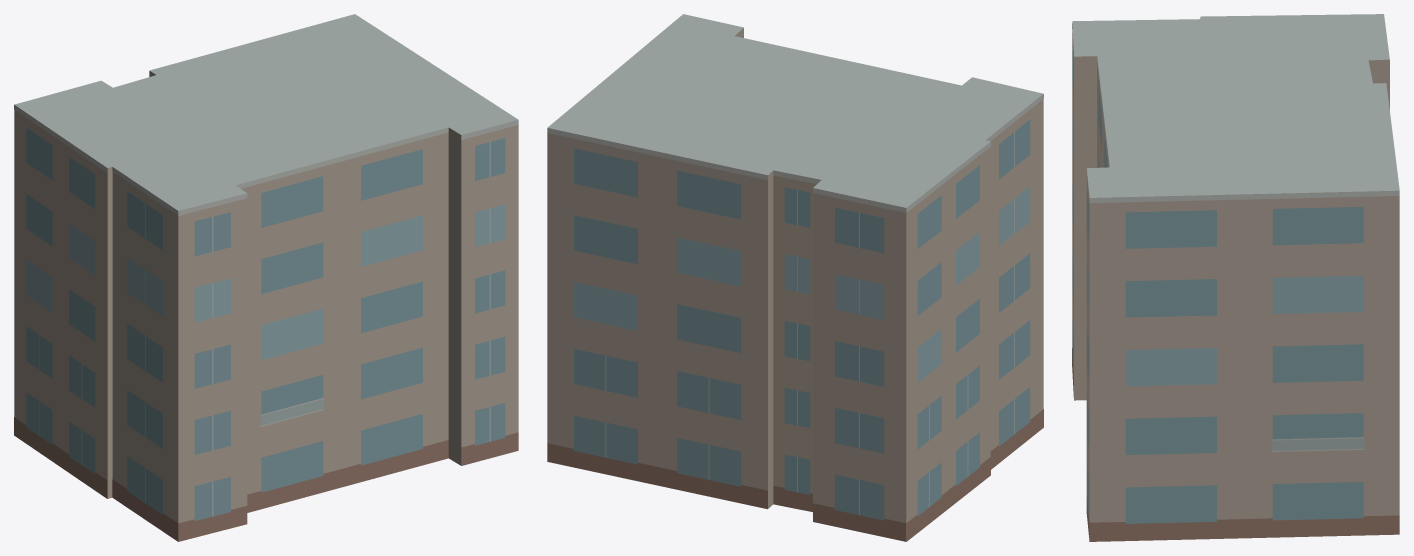
Rendered from survey-upis-32772718.glb.
The picture shows the model from 3 angles, left to right: view 1: azimuth 30°, elevation 25°; view 2: azimuth 150°, elevation 25°; view 3: azimuth 270°, elevation 25°; orthographic projection. The views are drawn at different scales.
Parts seen in each view (by area): view 1: survey-upis-32772718.tmp; view 2: survey-upis-32772718.tmp; view 3: survey-upis-32772718.tmp.
Boxes of the visible parts, bbox=[...] form: survey-upis-32772718.tmp: bbox=[14, 14, 518, 541]; survey-upis-32772718.tmp: bbox=[547, 14, 1043, 541]; survey-upis-32772718.tmp: bbox=[1072, 14, 1399, 541].
Size of the model in its own units: 18.54 by 16.15 by 13.96.
